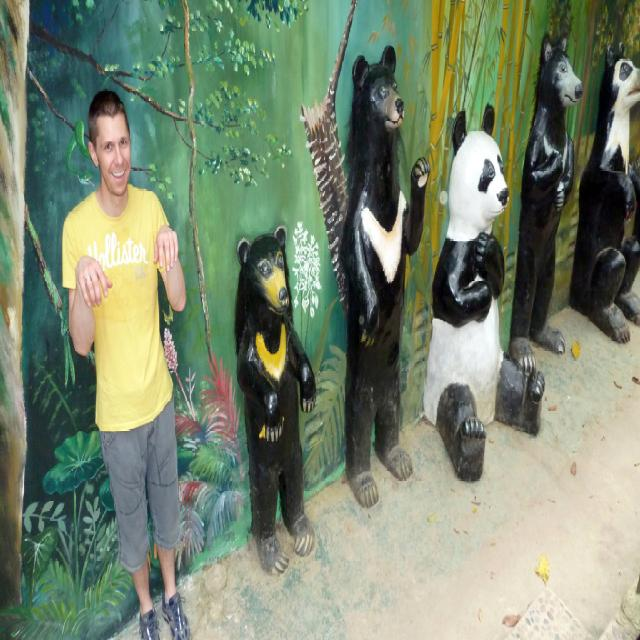panda: (424, 102, 544, 494)
